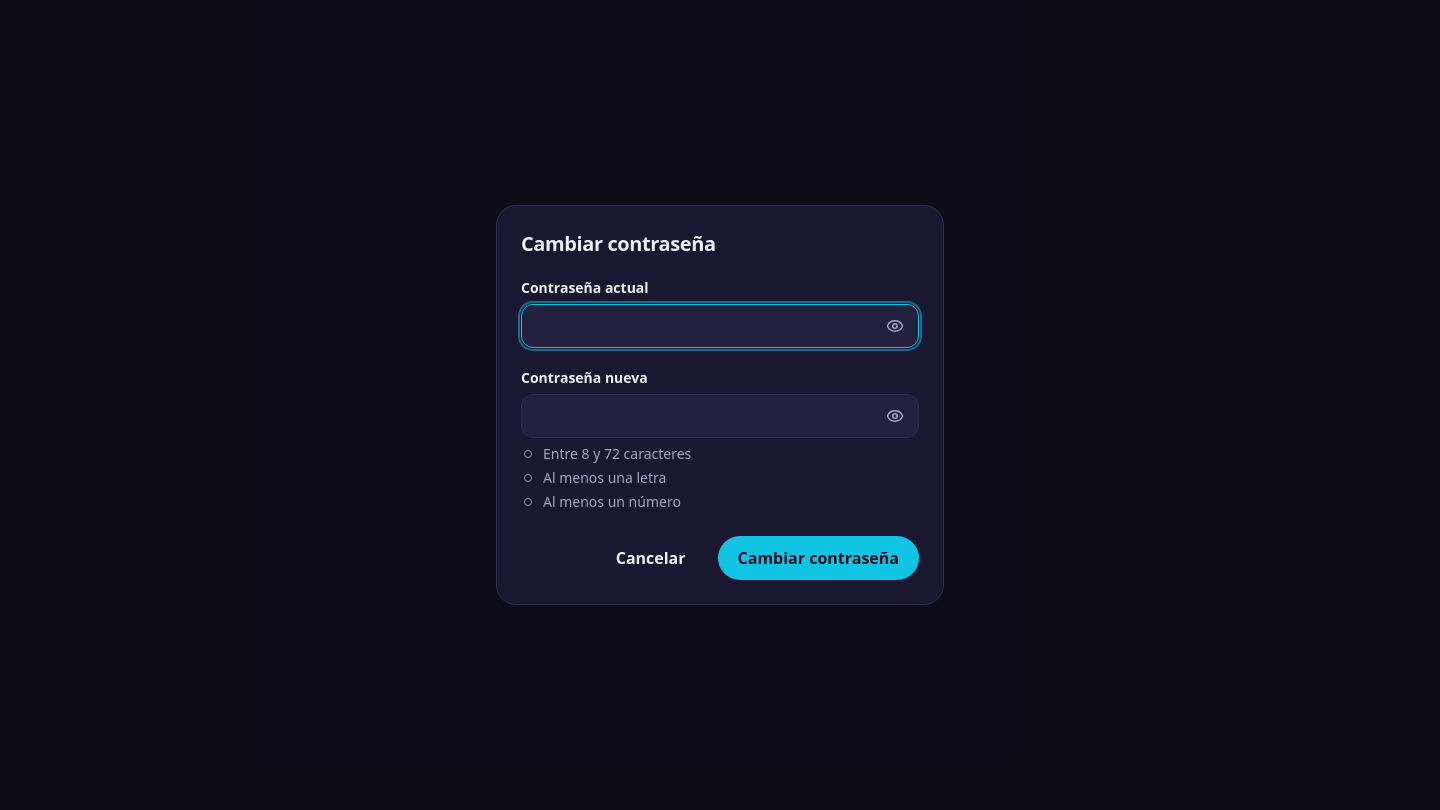
ChangePasswordModal › valida antes de enviar
Type "corta" into the password field labelled "Contraseña nueva".
click(720, 416); type("corta")  # box [521,394,919,438]
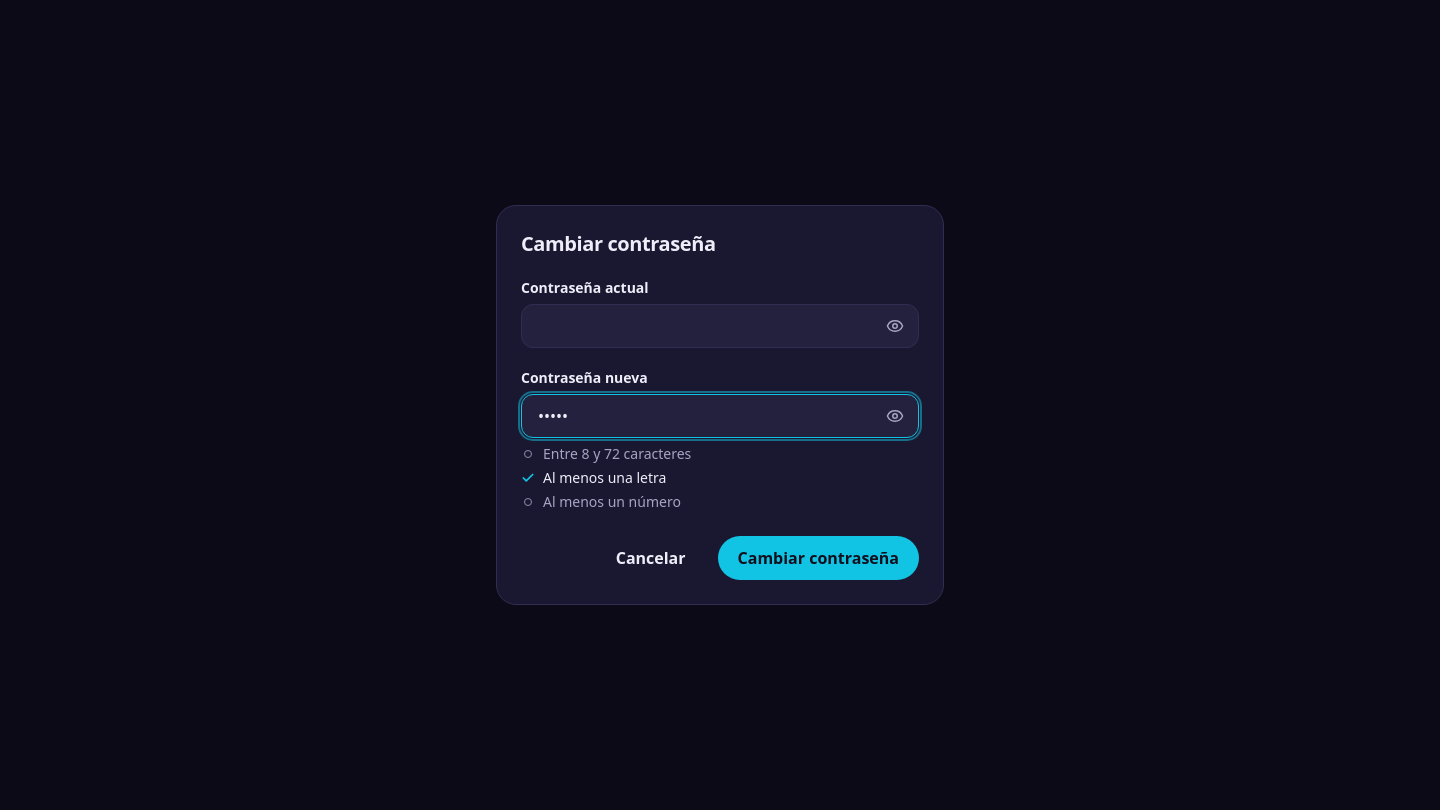
Click the button "Cambiar contraseña".
click(818, 558)  # box [718,536,919,580]
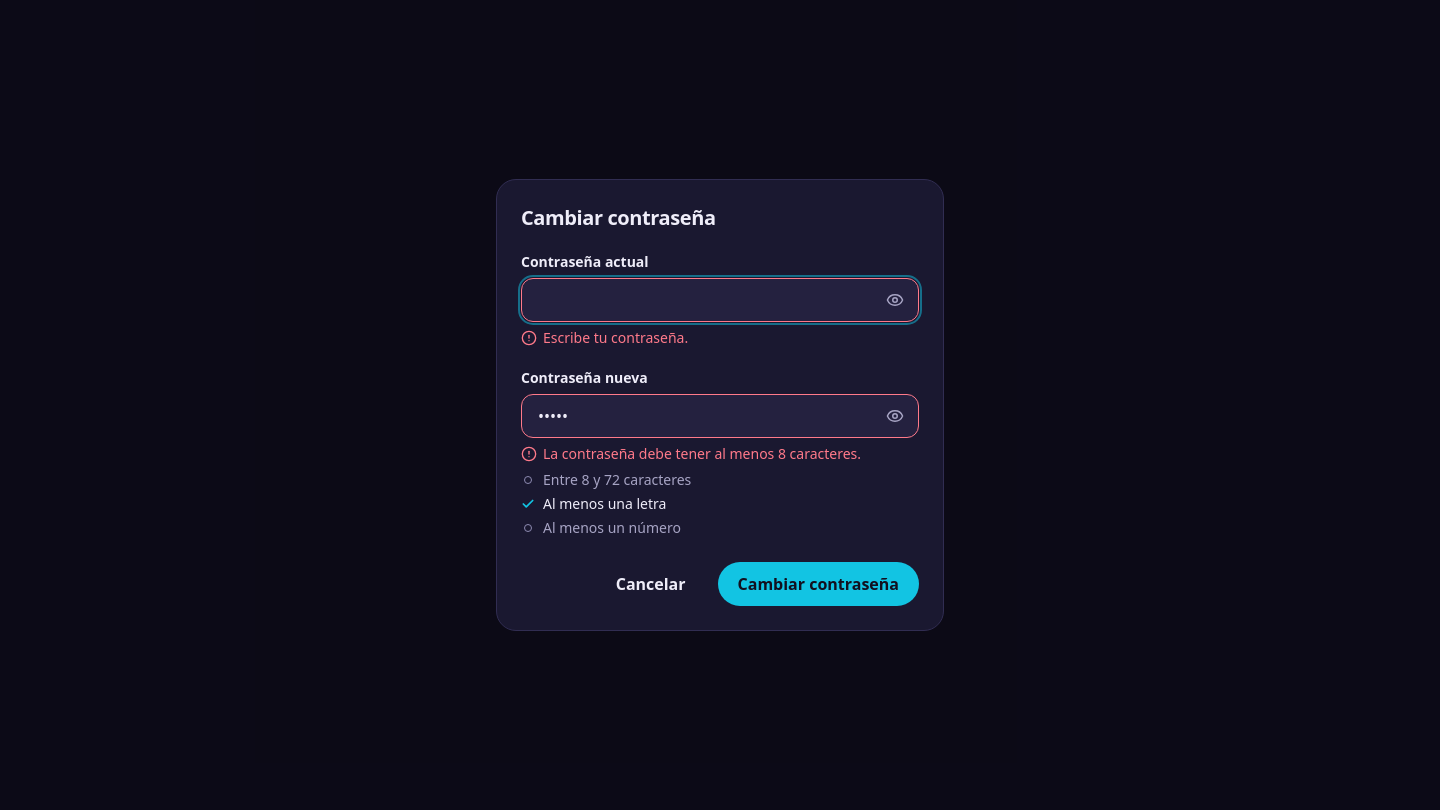
Result: the text "Escribe tu contraseña." is shown at [521,328,688,348]
Result: the text "La contraseña debe tener al menos 8 caracteres." is shown at [521,444,861,464]
